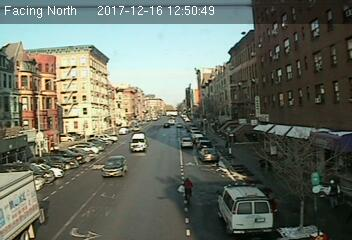bicycle: (177, 176, 193, 209)
car: (102, 156, 129, 176), (198, 147, 218, 161), (179, 137, 193, 147)
police: (216, 180, 271, 233)
truck: (131, 134, 148, 153)
